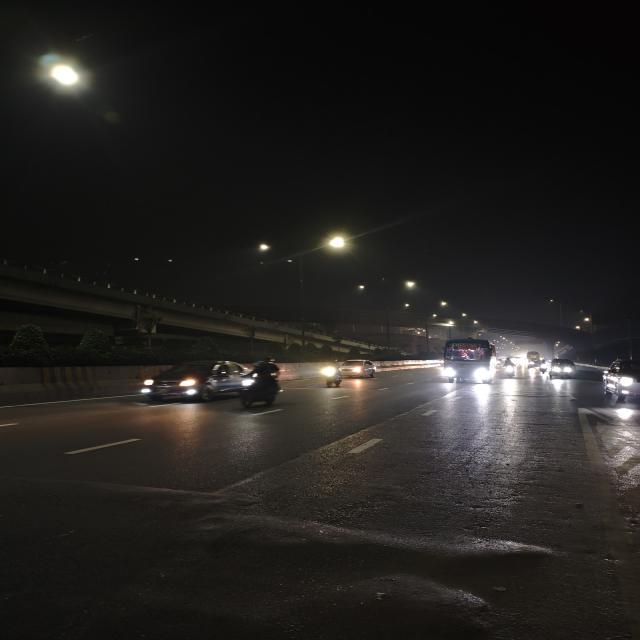bus: (438, 338, 498, 384)
car: (136, 358, 250, 406), (596, 356, 640, 406), (334, 358, 380, 380), (546, 356, 576, 381)
cng: (547, 357, 576, 380)
motorcycle: (234, 358, 289, 412), (319, 363, 346, 389), (502, 358, 519, 380)
